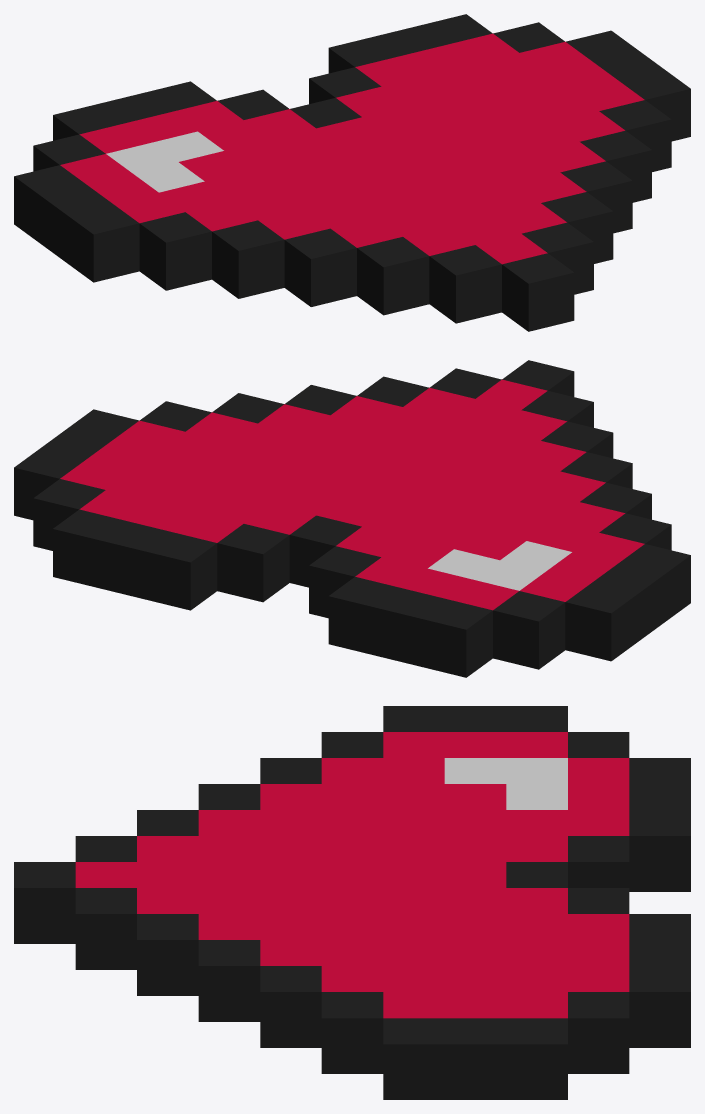
Rendered from fbxObject.fbx.
3 views of the same model, one above another, from view 1: azimuth 30°, elevation 25°; view 2: azimuth 150°, elevation 25°; view 3: azimuth 270°, elevation 25° (orthographic). The views are drawn at different scales.
Visible parts, largest first — view 1: testcubez; view 2: testcubez; view 3: testcubez.
Boxes of the visible parts, <box> form: testcubez: <box>14,14,690,331</box>; testcubez: <box>14,360,690,677</box>; testcubez: <box>14,706,690,1099</box>.
Bounding box in the file's own units: 18.34 × 1.41 × 15.52.
